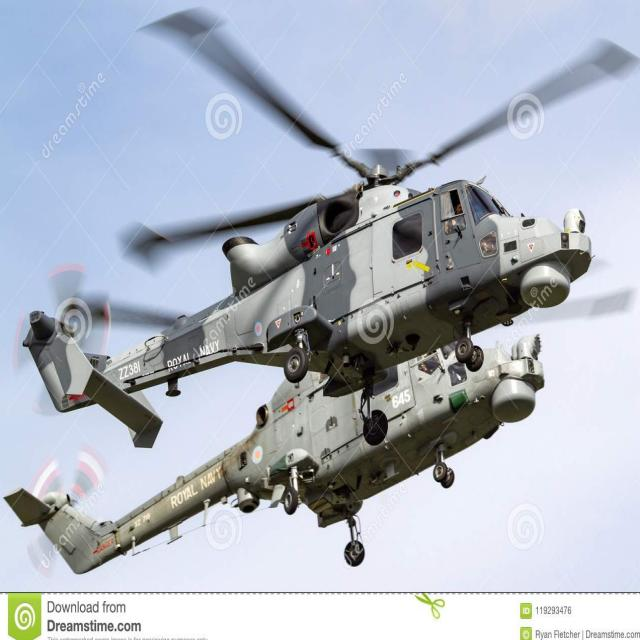helicopter: (27, 7, 630, 448), (41, 353, 553, 591)
